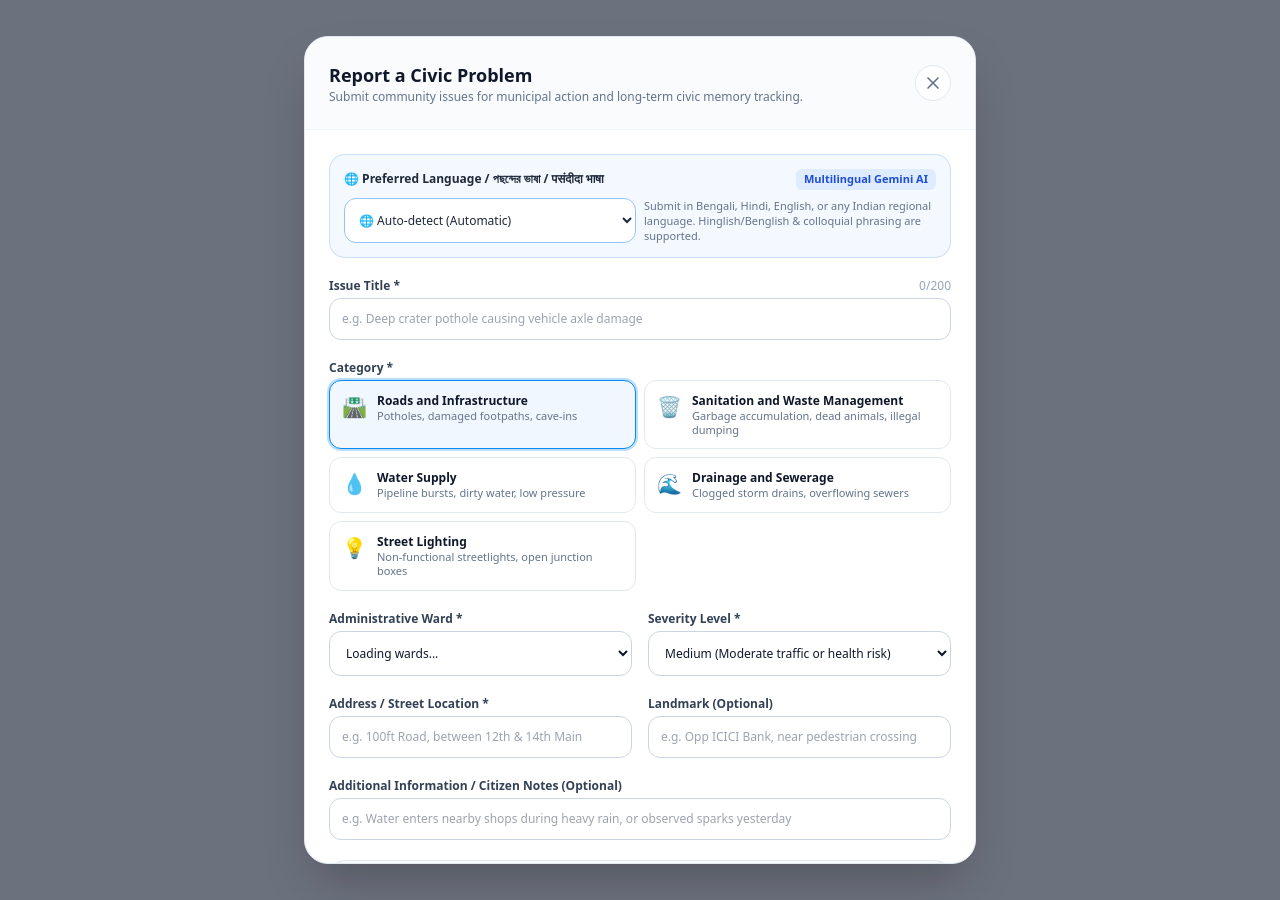
Test: NewComplaintModal — Gemini AI Complaint Analysis Integration › 3. 400 validation response: Displays field-level validation feedback
The width and height of the screenshot is (1280, 900).
Type "Valid Title Here" into the field with placeholder "e.g. Deep crater pothole causing vehicle axle damage".
click(640, 319); type("Valid Title Here")  # box [329,298,951,340]
(page scrolled)
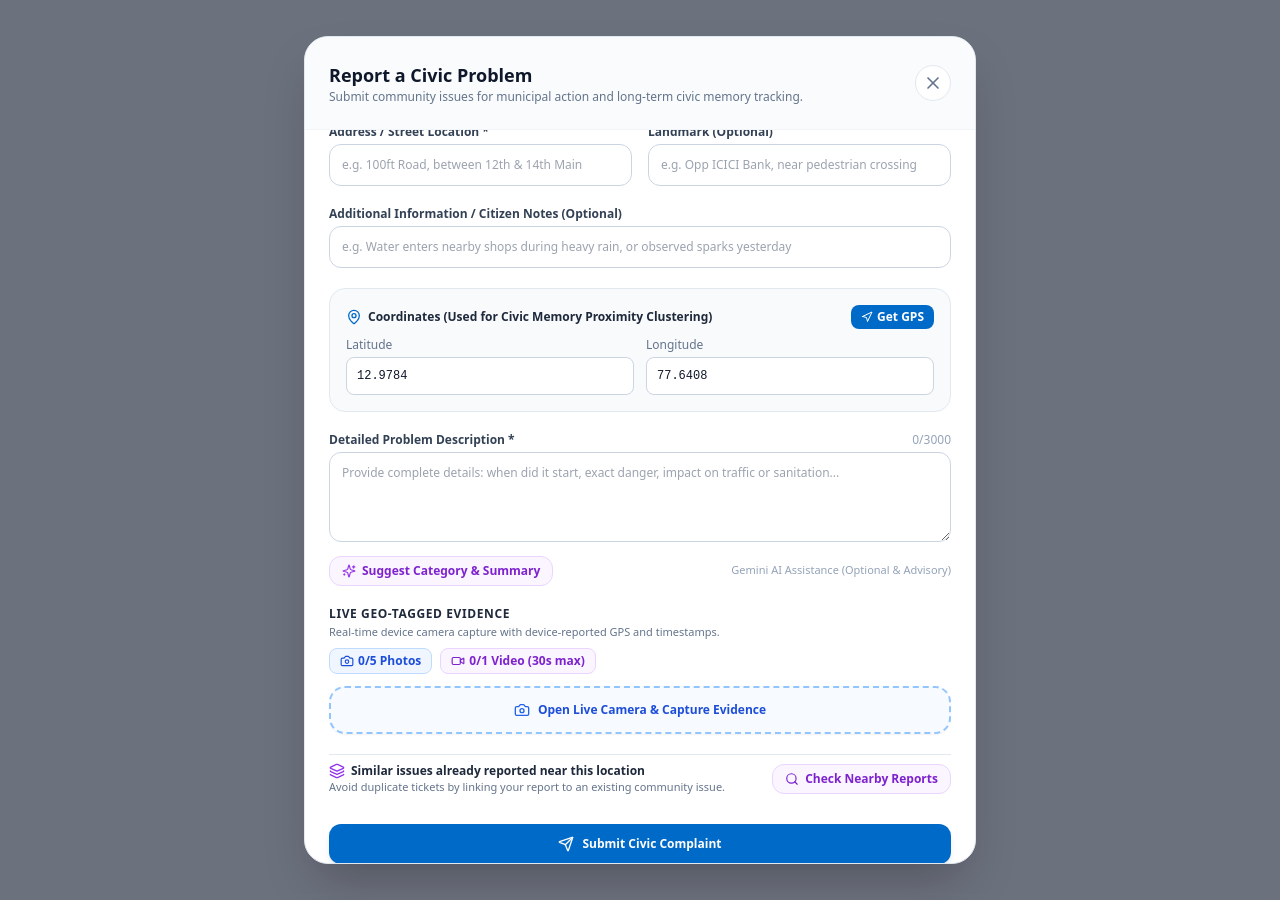
Replace the text in the text box with placeholder "Provide complete details" with "Valid detailed problem description for testing." at (640, 497), box [329,452,951,542]
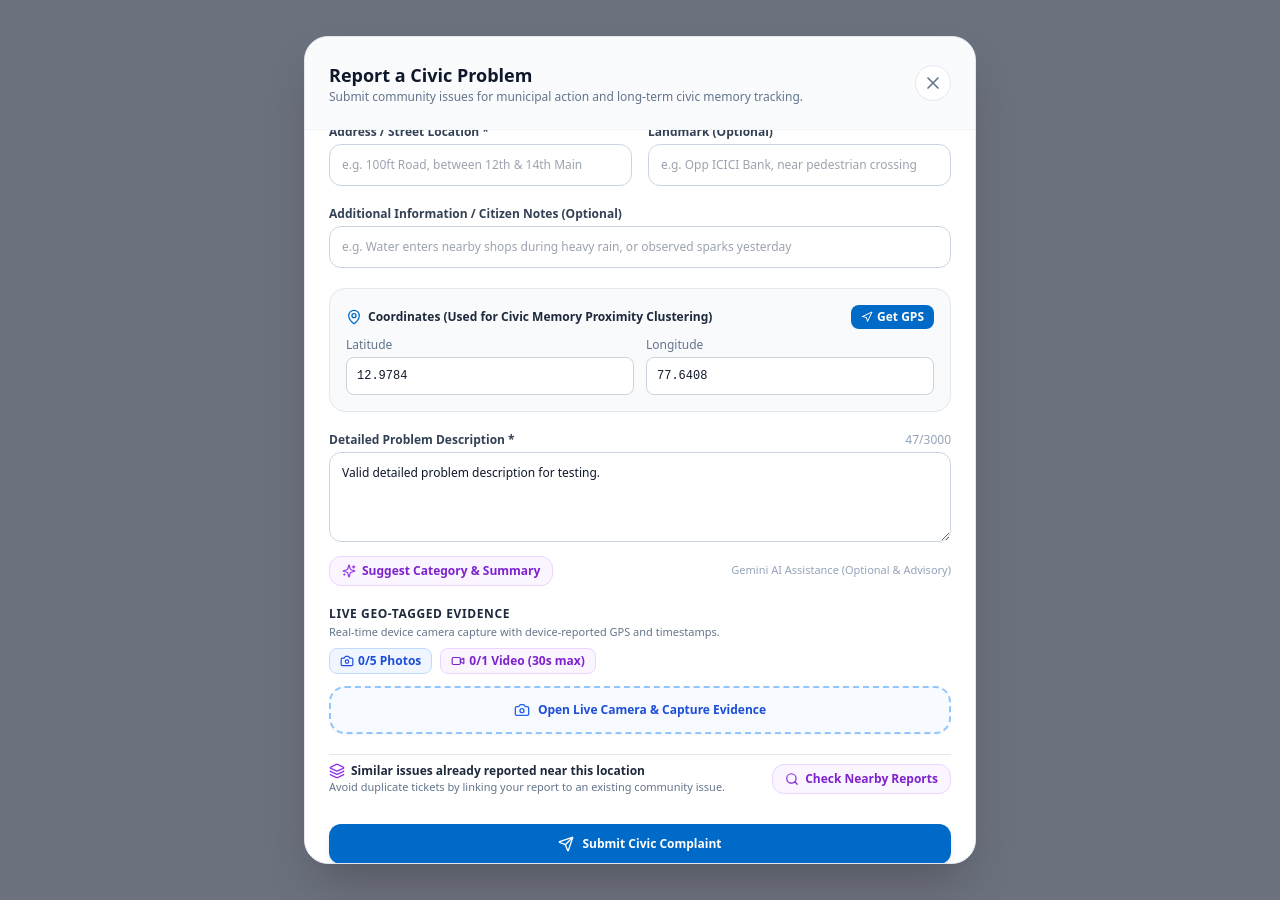
Click the button "Suggest Category & Summary".
click(441, 571)  # box [329,556,553,586]
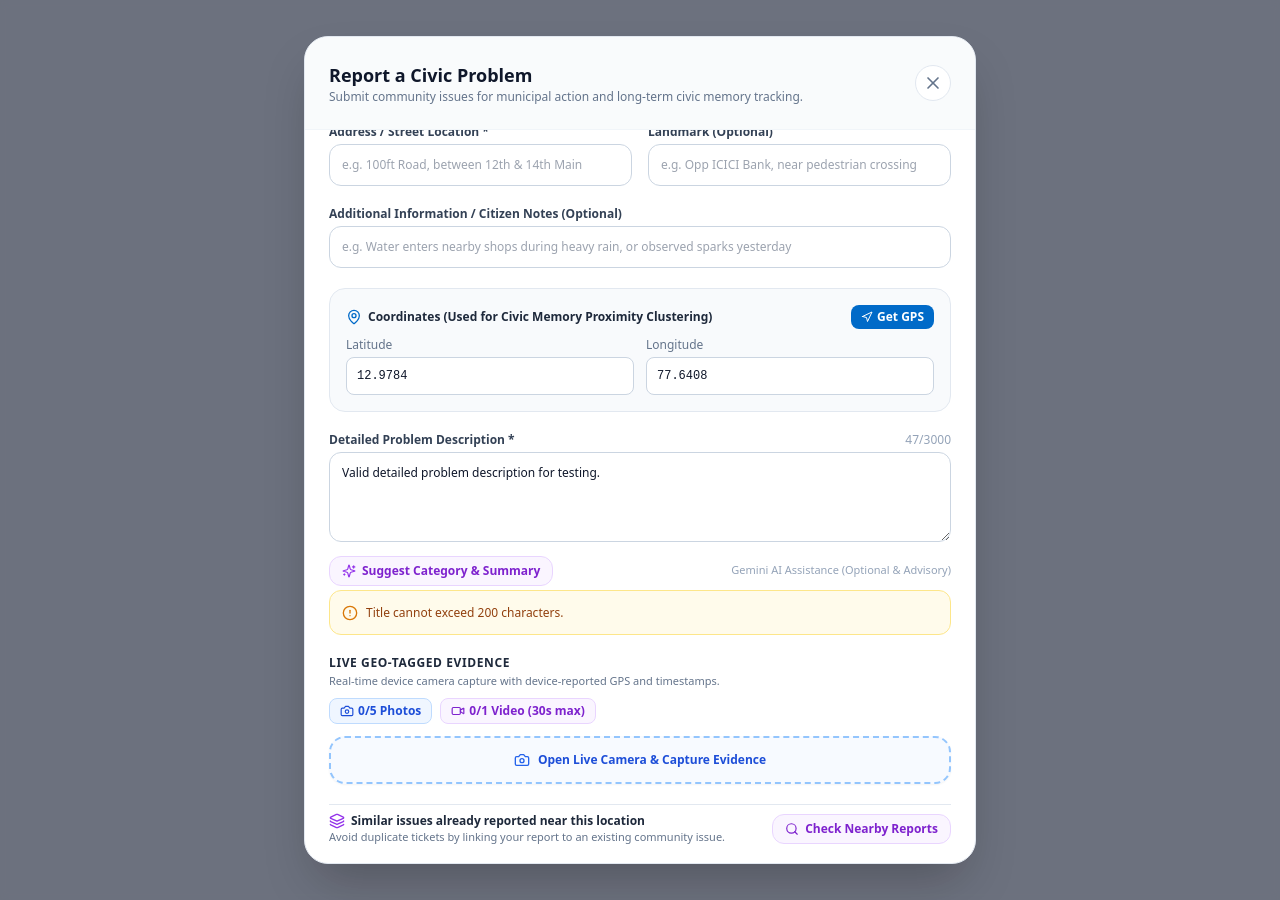
Now the text "Title cannot exceed 200 characters." is shown, box [366,603,563,622]
